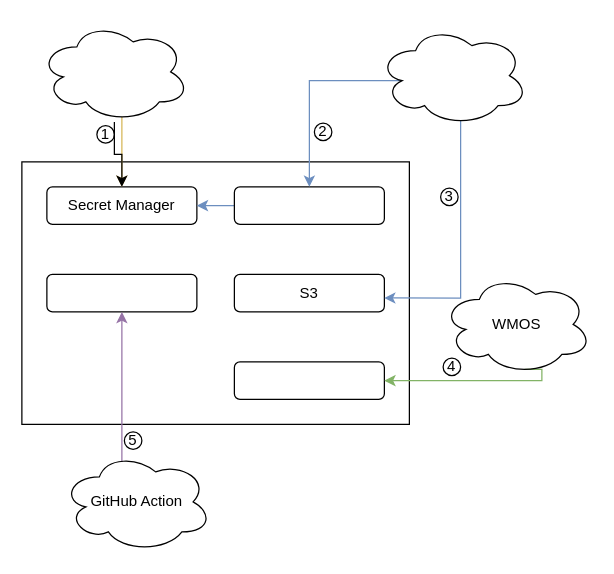
The diagram is 614 pixels wide and 574 high, and some of its shapes have lost their labels. The shapes that lost their labels are listed below. From the top down, each one's centre as x and y in pixels, then its label:
At [113,71]: "SFCC".
At [452,75]: "OMS".
At [308,205]: "KMS".
At [121,292]: "IAM".
At [308,380]: "Kinesis".
